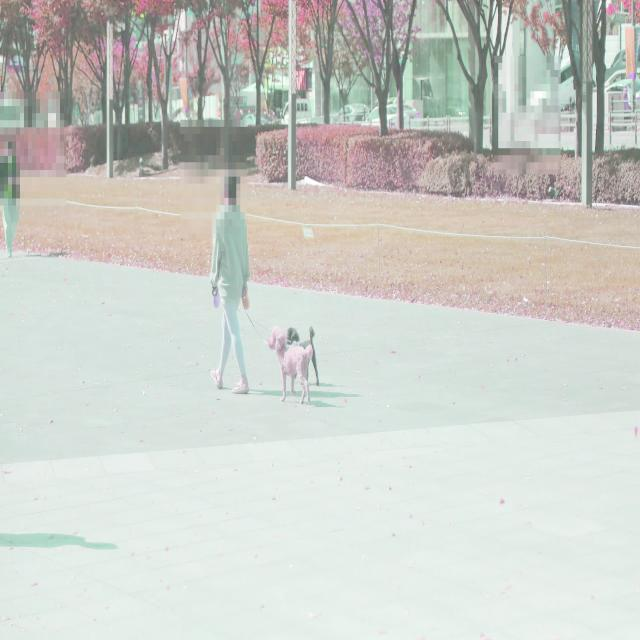Leashed_Dog: (237, 290, 313, 404), (228, 300, 320, 386)
